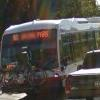Bus: (4, 13, 98, 90)
